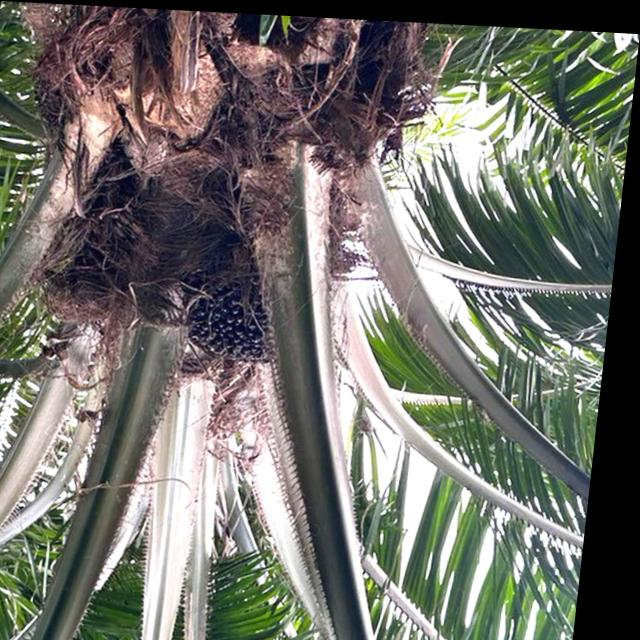unripe: (183, 243, 308, 371)
